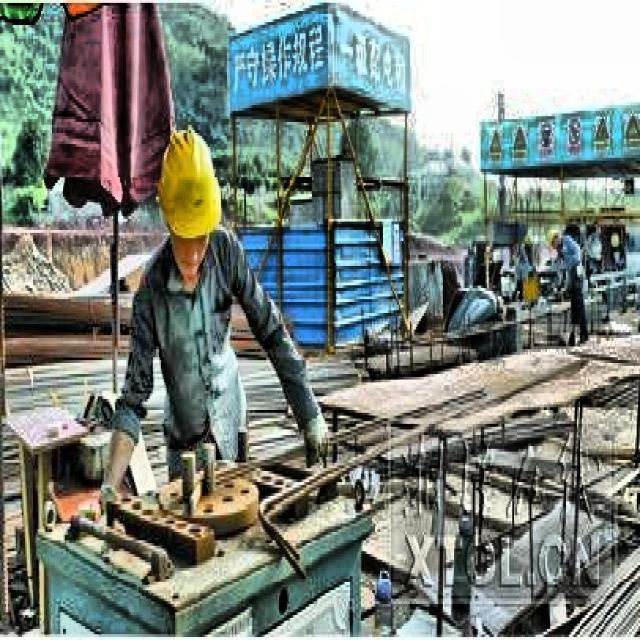helmet: (148, 119, 227, 280)
